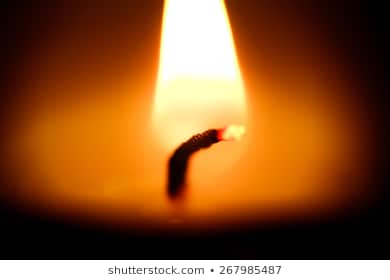Fire: (139, 1, 256, 153)
